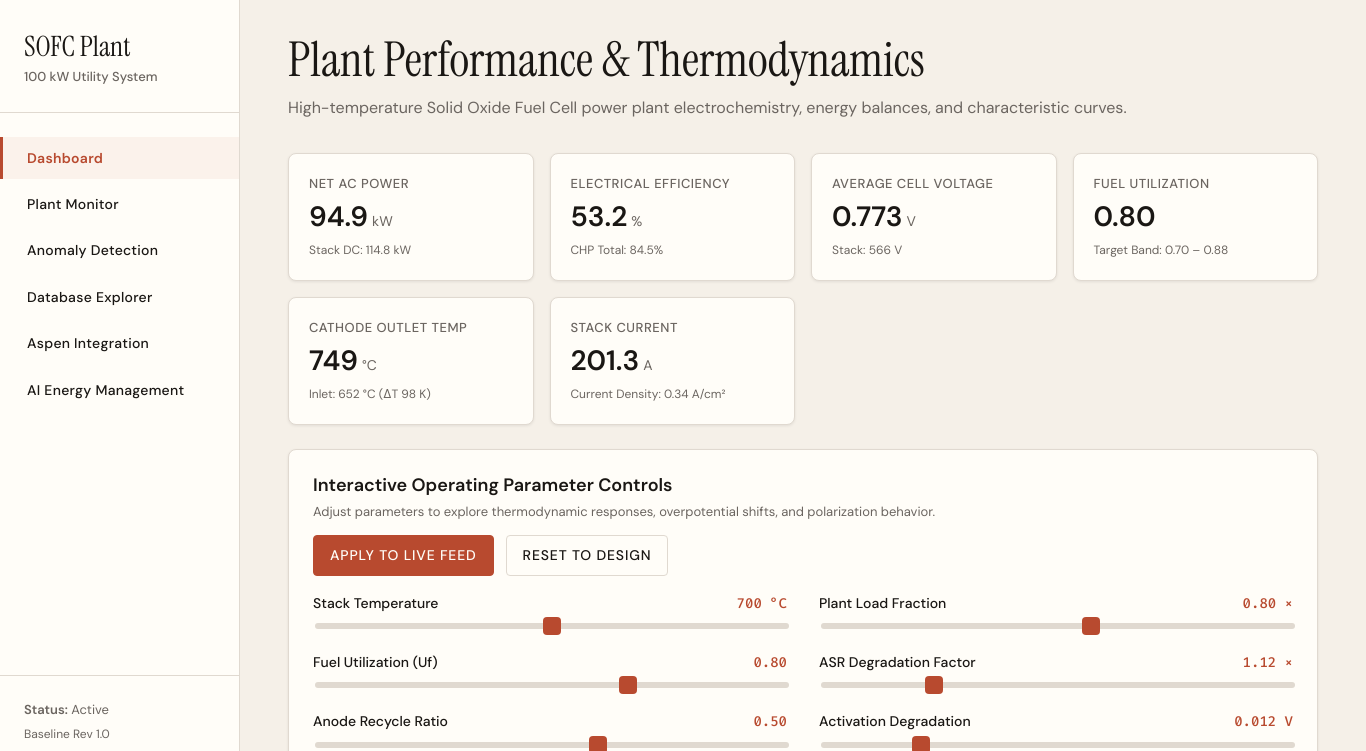
Test: SOFC Monitor Routed App › reports a lost server connection and retries
What coordinates should you click on to do the following:
click the link "Plant Monitor"
I would click on:
 (73, 204)
Its box is [27, 195, 119, 213].
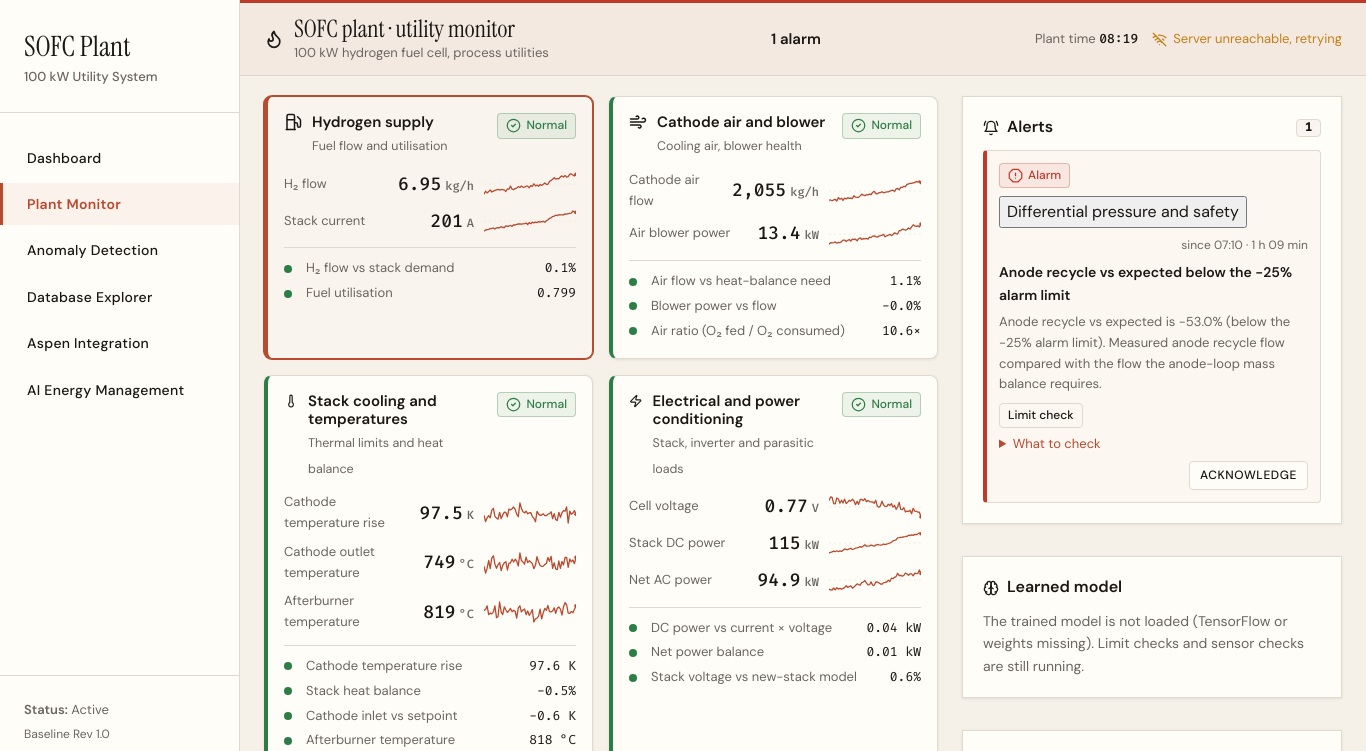
Now the text "Server unreachable, retrying" is shown, box [1152, 29, 1342, 50]
